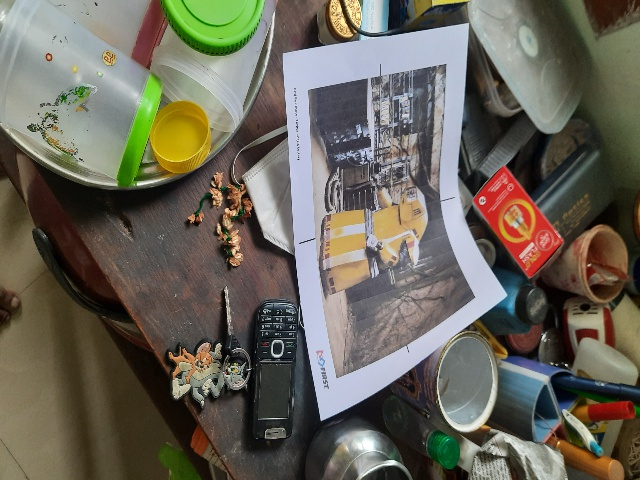rpt2: (296, 53, 482, 383)
